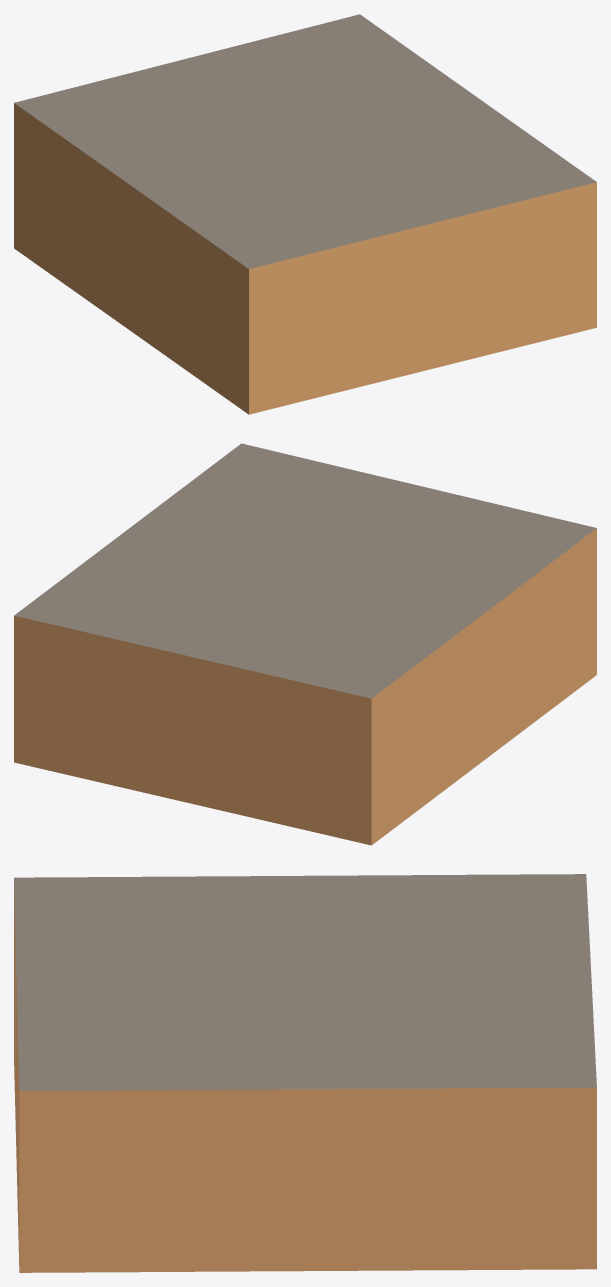
3 views of the same model, one above another, from view 1: azimuth 30°, elevation 25°; view 2: azimuth 150°, elevation 25°; view 3: azimuth 270°, elevation 25° (orthographic). The views are drawn at different scales.
Visible parts, largest first — view 1: element.006; view 2: element.006; view 3: element.006.
Boxes of the visible parts, left/top/right/bottom form: element.006: left=14, top=14, right=596, bottom=414; element.006: left=14, top=443, right=596, bottom=845; element.006: left=14, top=874, right=596, bottom=1272.
Size of the model in its own units: 10.69 by 4.18 by 12.13.
